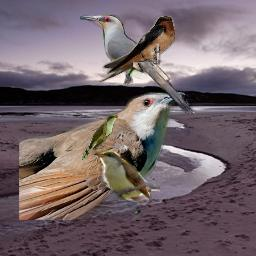Cuckoo: (19, 92, 185, 220), (80, 14, 196, 116), (91, 146, 160, 203), (82, 115, 118, 160)
Swallow: (94, 16, 175, 82)
